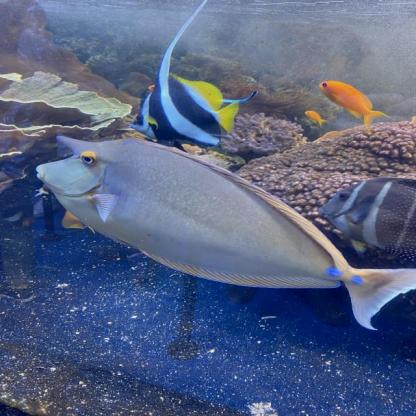fish: (36, 135, 416, 332), (320, 178, 416, 264), (127, 73, 240, 146), (319, 81, 390, 132), (306, 110, 328, 127)
